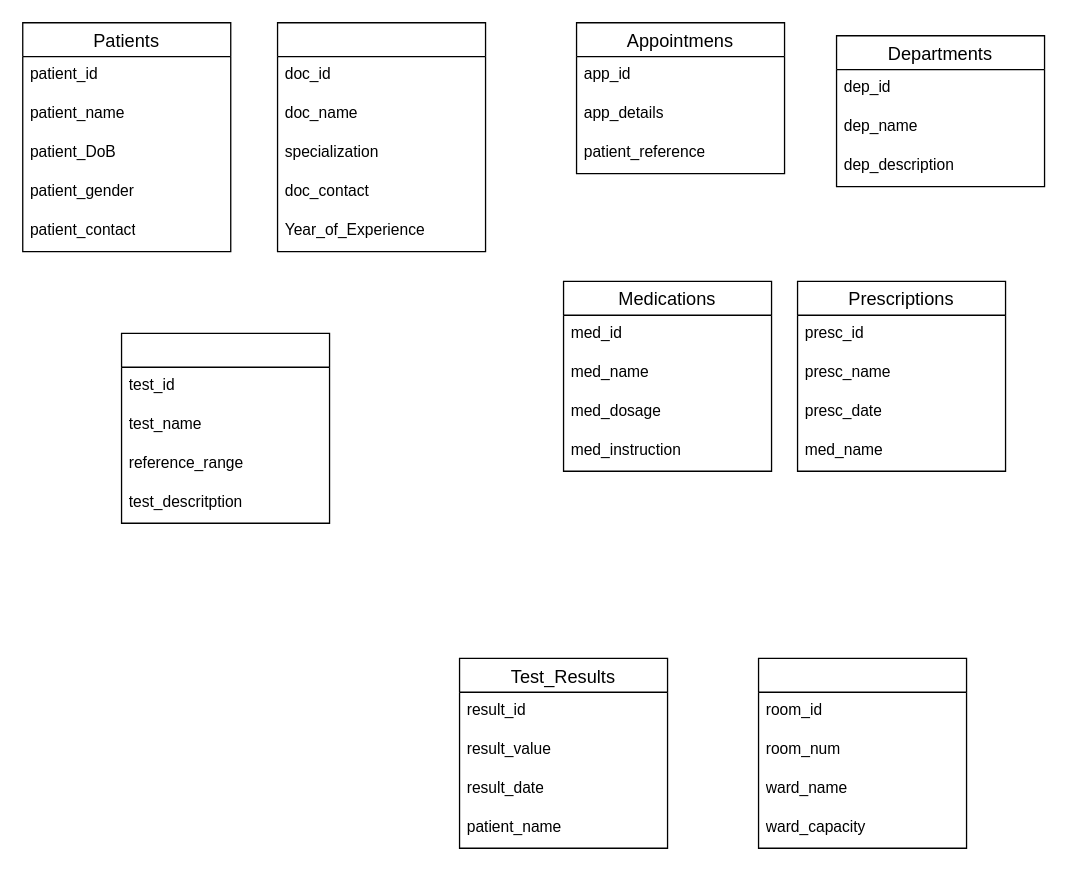
Some shapes in this 1067 by 875 pixel diagram are drawn without their labels. Here are the shapes that lost their labels. From the top down, the box of each, then its label:
(276, 21, 486, 252): Doctors
(120, 332, 330, 523): Tests
(757, 657, 967, 848): Ward/Rooms
